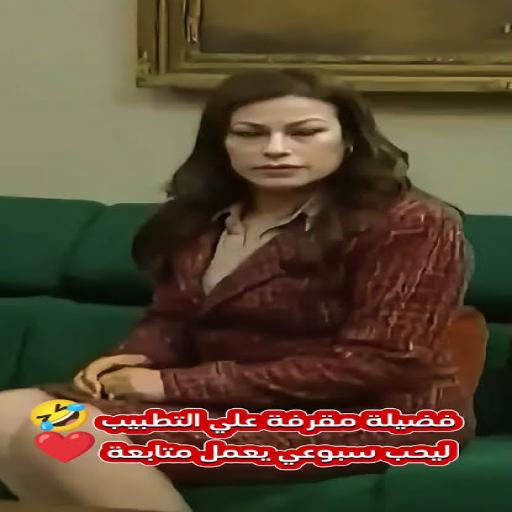zeineb: (167, 69, 392, 215)
